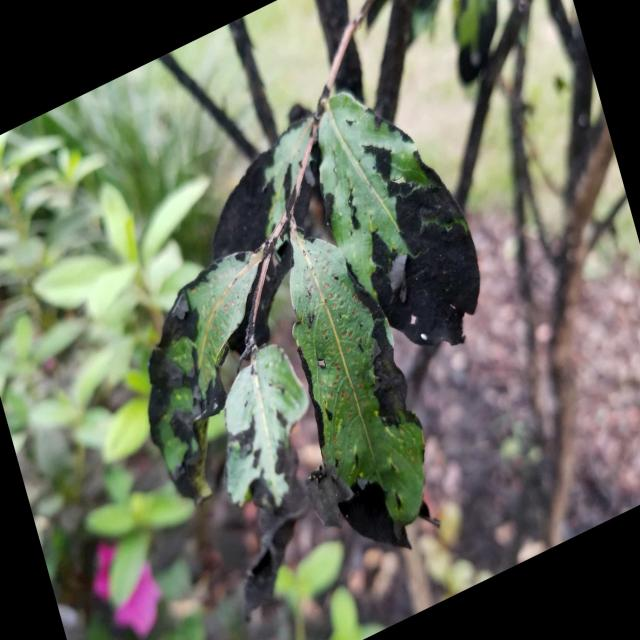Sooty Mold: (147, 88, 481, 544)
